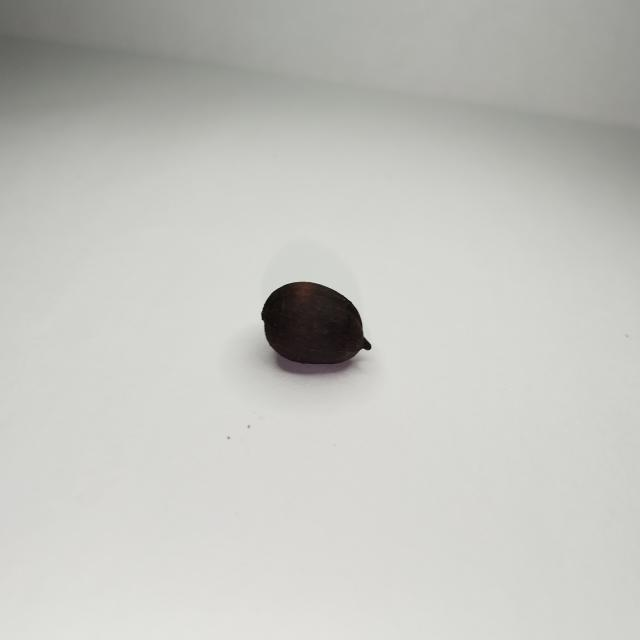Danado: (262, 282, 372, 370)
